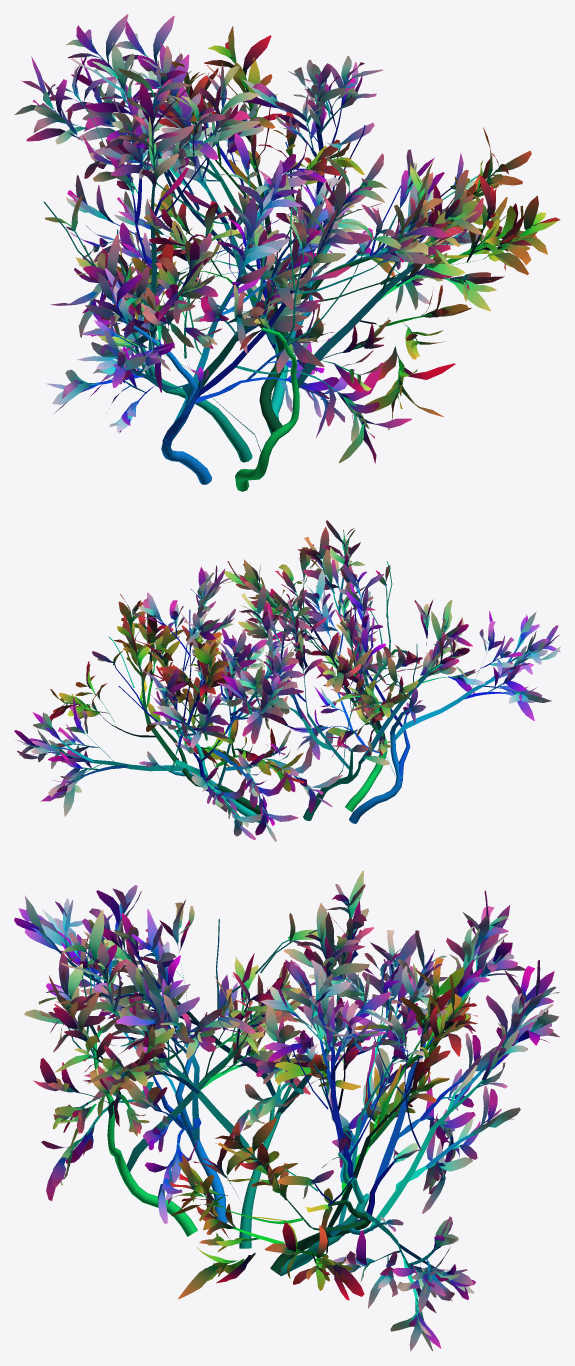
Rendered from Downy_Willow_wknlfiuqx_Mid_wknlfiuqx_VarI_LOD1.fbx.
3 renders of one model, top to bottom at view 1: azimuth 30°, elevation 25°; view 2: azimuth 150°, elevation 25°; view 3: azimuth 270°, elevation 25°, orthographic. The views are drawn at different scales.
Parts seen in each view (by area): view 1: _s7f1_VarI_LOD2; view 2: _s7f1_VarI_LOD2; view 3: _s7f1_VarI_LOD2.
Part boxes in pixels (x1=…): _s7f1_VarI_LOD2: x1=14, y1=14, x2=560, y2=491; _s7f1_VarI_LOD2: x1=14, y1=520, x2=560, y2=841; _s7f1_VarI_LOD2: x1=14, y1=870, x2=559, y2=1351.
Size of the model in its own units: 155 by 94.67 by 130.
